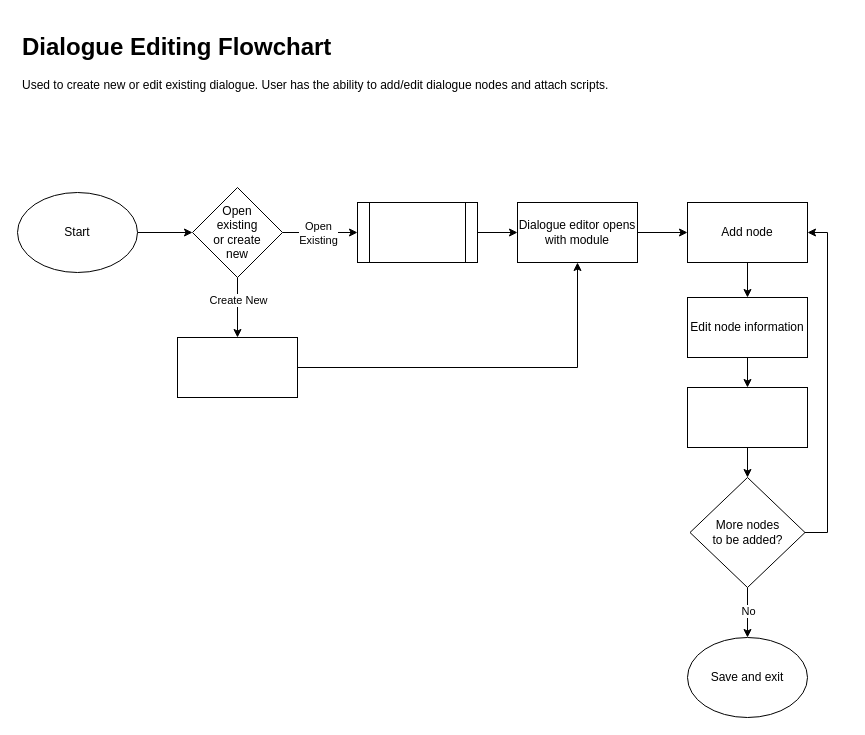
Some shapes in this 865 by 735 pixel diagram are drawn without their labels. Each missing label, with the centre of its shape:
"Attach scripts" goes at (747,417).
"Name file" goes at (237,367).
"Toolset load module process" goes at (417,232).
